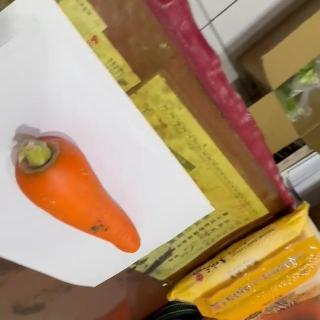carrot: (13, 134, 143, 255)
